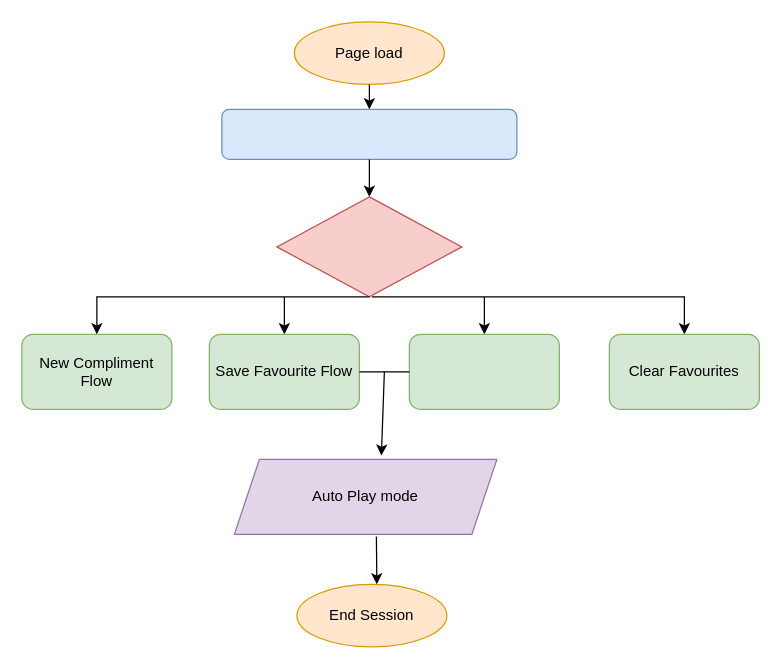
The diagram is 781 pixels wide and 669 high, and some of its shapes have lost their labels. The box of each missing label's shape, as (x1, y1, x2, y2) in pixels:
Copy/Share Flow: (408, 333, 559, 409)
Initialize Application: (221, 108, 517, 159)
Waiting for User Interaction: (276, 196, 462, 297)
